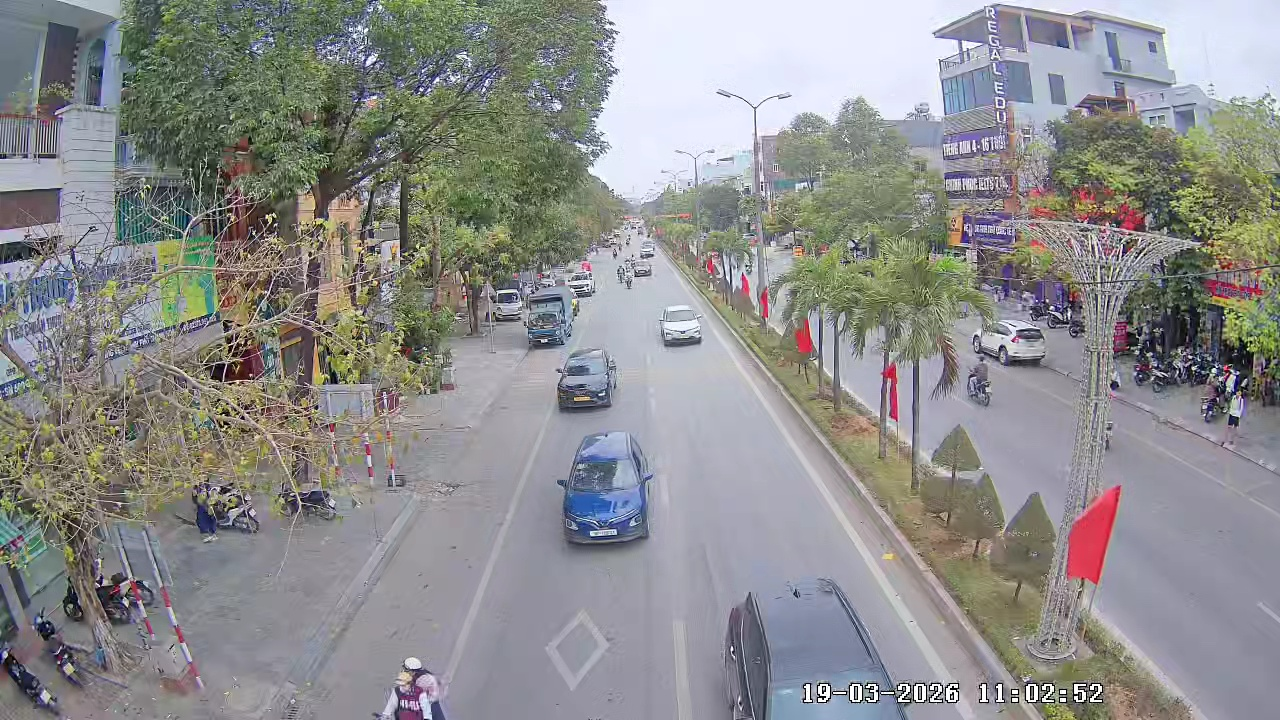car: (721, 575, 908, 719), (555, 430, 656, 546), (554, 346, 620, 412), (998, 324, 1049, 367), (658, 301, 704, 348), (971, 324, 1011, 365), (569, 266, 595, 299), (635, 256, 655, 279)
exception: (374, 655, 450, 719)
motorbike: (283, 486, 343, 525), (967, 356, 994, 408), (617, 258, 633, 289)
pedestrian: (194, 483, 218, 538)
truck: (523, 288, 575, 349)
